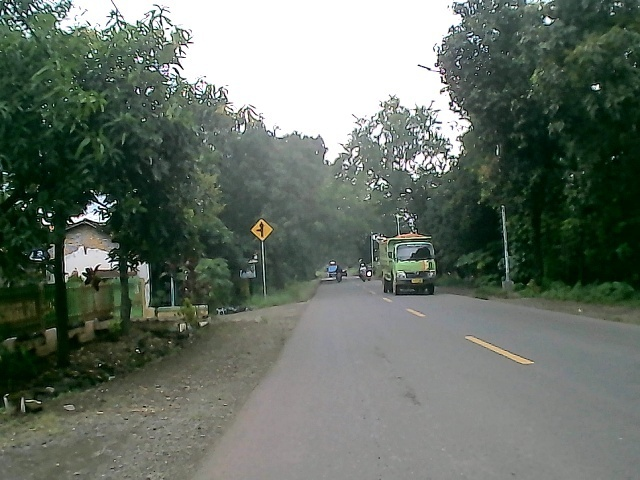Simpang kiri dengan prioritas: (249, 217, 275, 242)
